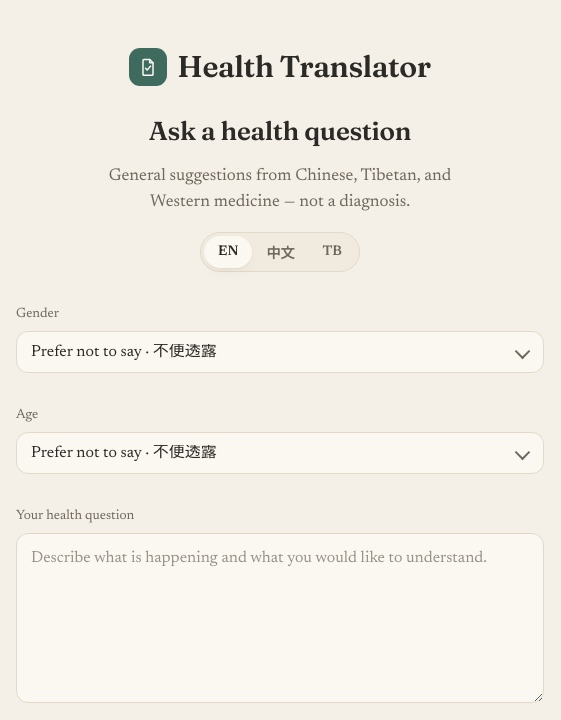
Test: advice page T4 live flow › keeps the answer language snapshot when the UI language changes during a request
This screenshot has width=561, height=720.
Replace the text in the text box labelled "Your health question" with "How can I sleep better?" at (280, 618), box x1=16 y1=533 x2=544 y2=703
(page scrolled)
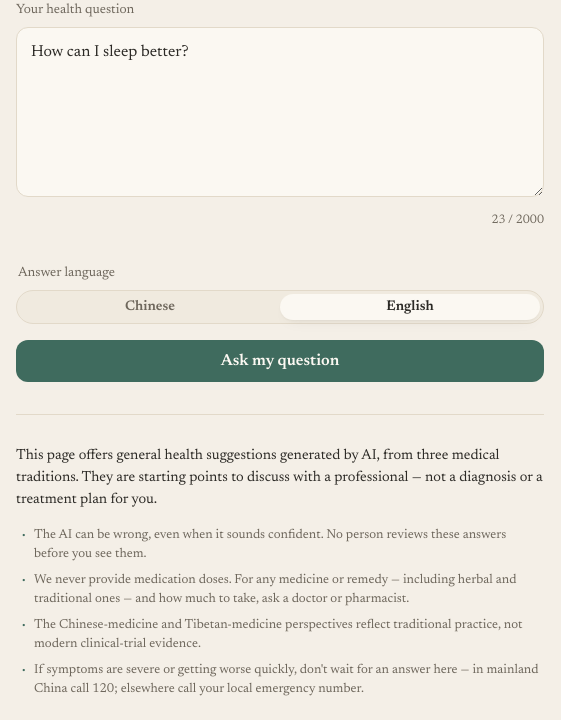
Click the button "Ask my question" at (280, 361), box x1=16 y1=340 x2=544 y2=382
(page scrolled)
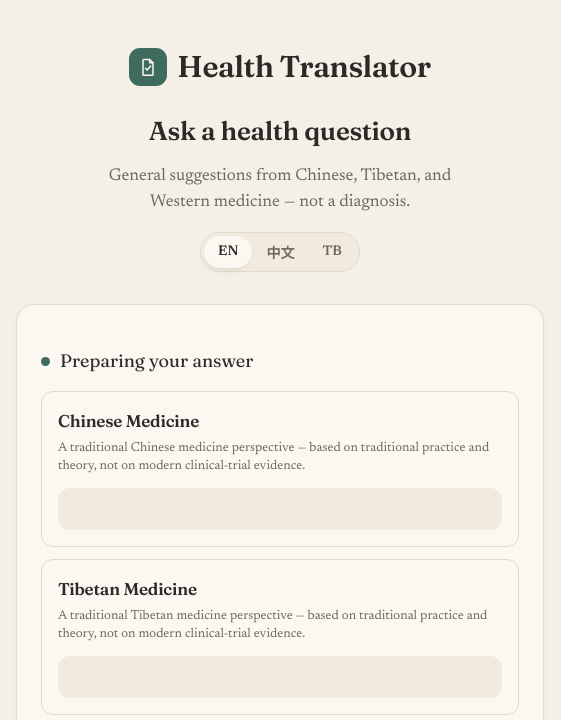
Click the button "中文" at (280, 252), box x1=252 y1=236 x2=308 y2=268
(page scrolled)
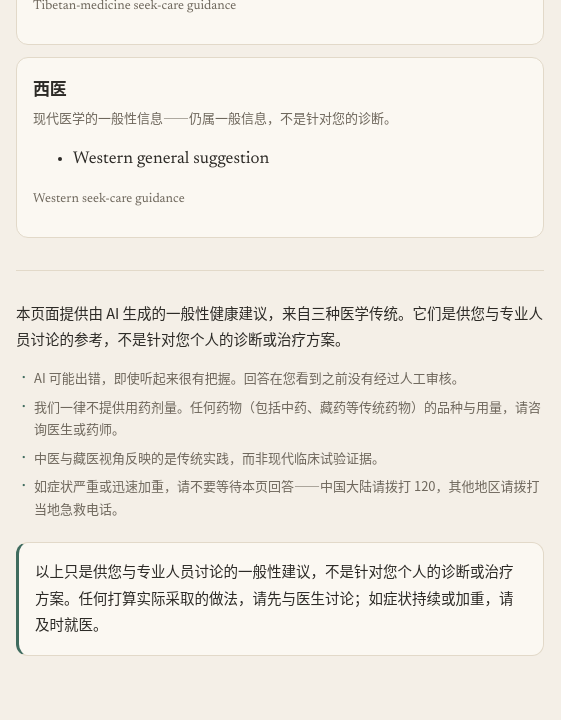
Result: the element with test id "advice-referral" shows "以上只是供您与专业人员讨论的一般性建议" at x1=35 y1=560 x2=514 y2=634
